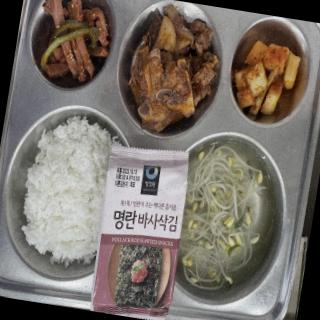Nasi: (1, 109, 114, 271)
